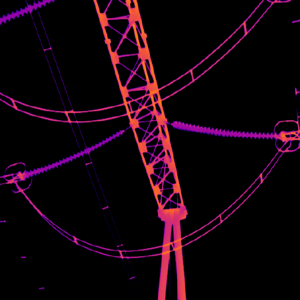insulator: (21, 126, 124, 181), (170, 116, 278, 141), (0, 0, 53, 26)
